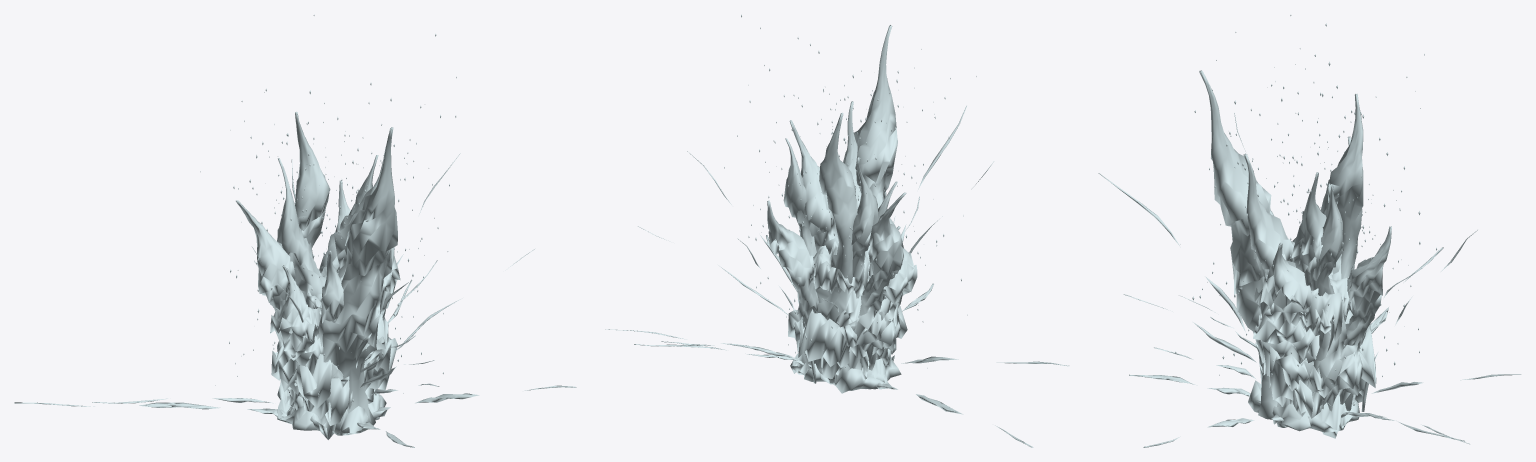
The model's file is crown-peak.glb.
The picture shows the model from 3 angles, left to right: view 1: azimuth 30°, elevation 25°; view 2: azimuth 150°, elevation 25°; view 3: azimuth 270°, elevation 25°; orthographic projection. The views are drawn at different scales.
Visible parts, largest first — view 1: Shell water / deforming core, jets and drops; view 2: Shell water / deforming core, jets and drops; view 3: Shell water / deforming core, jets and drops.
Boxes of the visible parts, bbox=[...] form: Shell water / deforming core, jets and drops: bbox=[14, 14, 576, 447]; Shell water / deforming core, jets and drops: bbox=[605, 14, 1068, 447]; Shell water / deforming core, jets and drops: bbox=[1098, 14, 1521, 447].
Bounding box in the file's own units: 1.31 × 0.955 × 0.9637.
